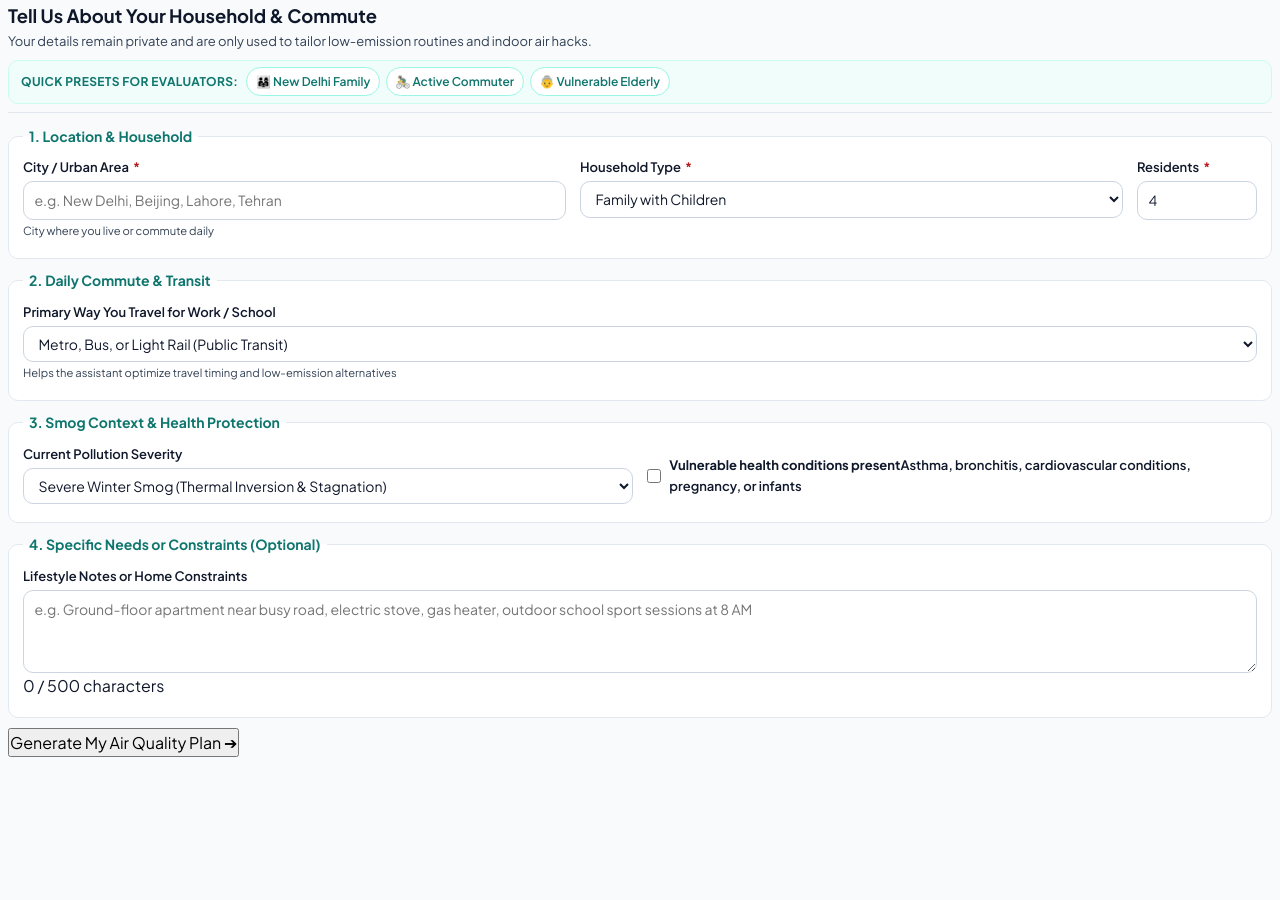
it: IntakeForm Component › shows accessible error alert when submitting with empty city
Click the button with aria-label "Generate personalized air quality plan" at (124, 742), box top-left (8, 728), bottom-right (239, 757)
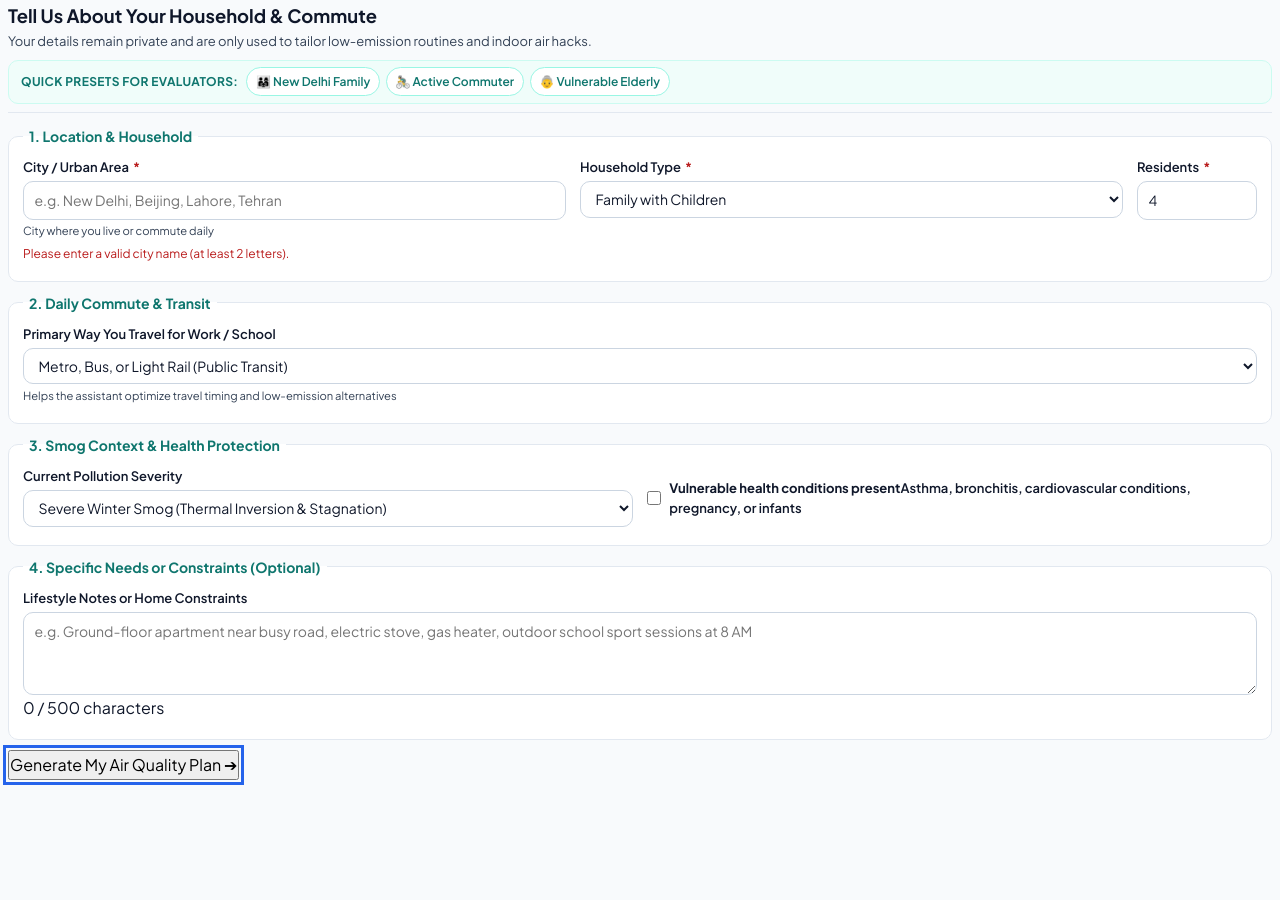
Expected: the message shows "Please enter a valid city name", top-left (23, 246), bottom-right (289, 260)
